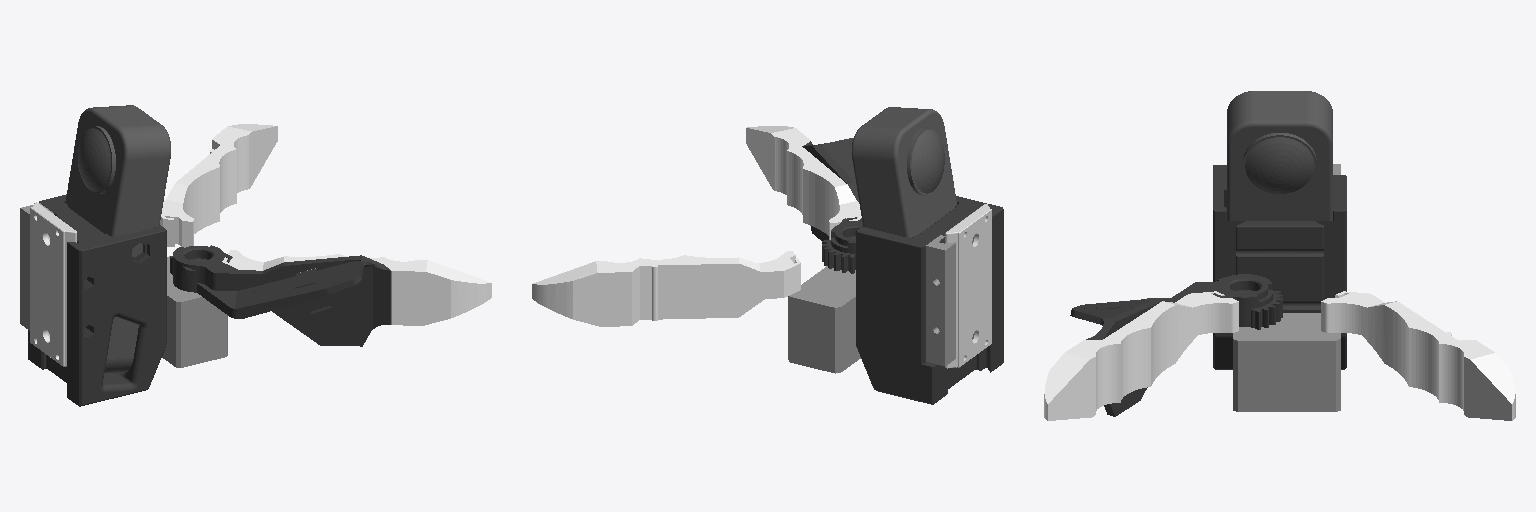
The robot description file, URDF, robot "ChopstickSA":
<?xml version="1.0" ?>
<!-- Generated using onshape-to-robot -->
<!-- Onshape https://cad.onshape.com/documents/eecabbca2b473235ed55f5da/w/12b51beda5c251ebfa3a2944/e/4531c8ca57061f6ee81836c2 -->
<robot name="ChopstickSA">
  <!-- Link insta360x5_frame__b3fbf05df103a92770cc2e34ad0d092e -->
  <link name="insta360x5_frame__b3fbf05df103a92770cc2e34ad0d092e">
    <inertial>
      <origin xyz="0.038123 0.000461464 -0.00183218" rpy="0 0 0"/>
      <mass value="0.4938"/>
      <inertia ixx="0.000627488" ixy="-5.24983e-06" ixz="8.82031e-05" iyy="0.000786642" iyz="8.44981e-06" izz="0.00038305"/>
    </inertial>
    <!-- Part servo__gripper -->
    <visual>
      <origin xyz="0.0673301 0.015 -0.0106871" rpy="0 -0 0"/>
      <geometry>
        <mesh filename="package://assets/servo__gripper.stl"/>
      </geometry>
      <material name="servo__gripper_material">
        <color rgba="0.647059 0.647059 0.647059 1"/>
      </material>
    </visual>
    <collision>
      <origin xyz="0.0673301 0.015 -0.0106871" rpy="0 -0 0"/>
      <geometry>
        <mesh filename="package://assets/servo__gripper.stl"/>
      </geometry>
    </collision>
    <!-- Part chopstickbase_sa__b3fbf05df103a92770cc2e34ad0d092e -->
    <visual>
      <origin xyz="-0 0 0" rpy="-0 -0 -0"/>
      <geometry>
        <mesh filename="package://assets/chopstickbase_sa__b3fbf05df103a92770cc2e34ad0d092e.stl"/>
      </geometry>
      <material name="chopstickbase_sa__b3fbf05df103a92770cc2e34ad0d092e_material">
        <color rgba="0.301961 0.301961 0.301961 1"/>
      </material>
    </visual>
    <collision>
      <origin xyz="-0 0 0" rpy="-0 -0 -0"/>
      <geometry>
        <mesh filename="package://assets/chopstickbase_sa__b3fbf05df103a92770cc2e34ad0d092e.stl"/>
      </geometry>
    </collision>
    <!-- Part insta360x5_frame__b3fbf05df103a92770cc2e34ad0d092e -->
    <visual>
      <origin xyz="-0 0 0" rpy="0 -0 0"/>
      <geometry>
        <mesh filename="package://assets/insta360x5_frame__b3fbf05df103a92770cc2e34ad0d092e.stl"/>
      </geometry>
      <material name="insta360x5_frame__b3fbf05df103a92770cc2e34ad0d092e_material">
        <color rgba="0.301961 0.301961 0.301961 1"/>
      </material>
    </visual>
    <collision>
      <origin xyz="-0 0 0" rpy="0 -0 0"/>
      <geometry>
        <mesh filename="package://assets/insta360x5_frame__b3fbf05df103a92770cc2e34ad0d092e.stl"/>
      </geometry>
    </collision>
    <!-- Part insta360_x5__47d4ae39761d23bd9bfcc1d54af43414 -->
    <visual>
      <origin xyz="-0 0 0" rpy="0 -0 0"/>
      <geometry>
        <mesh filename="package://assets/insta360_x5__47d4ae39761d23bd9bfcc1d54af43414.stl"/>
      </geometry>
      <material name="insta360_x5__47d4ae39761d23bd9bfcc1d54af43414_material">
        <color rgba="0.4 0.4 0.4 1"/>
      </material>
    </visual>
    <collision>
      <origin xyz="-0 0 0" rpy="0 -0 0"/>
      <geometry>
        <mesh filename="package://assets/insta360_x5__47d4ae39761d23bd9bfcc1d54af43414.stl"/>
      </geometry>
    </collision>
    <!-- Part plate___frankarobot -->
    <visual>
      <origin xyz="0 0 0" rpy="0 -0 0"/>
      <geometry>
        <mesh filename="package://assets/plate___frankarobot.stl"/>
      </geometry>
      <material name="plate___frankarobot_material">
        <color rgba="0.917647 0.917647 0.917647 1"/>
      </material>
    </visual>
    <collision>
      <origin xyz="0 0 0" rpy="0 -0 0"/>
      <geometry>
        <mesh filename="package://assets/plate___frankarobot.stl"/>
      </geometry>
    </collision>
    <!-- Part chopstickclip_sa__b3fbf05df103a92770cc2e34ad0d092e -->
    <visual>
      <origin xyz="-0 0 0" rpy="0 -0 0"/>
      <geometry>
        <mesh filename="package://assets/chopstickclip_sa__b3fbf05df103a92770cc2e34ad0d092e.stl"/>
      </geometry>
      <material name="chopstickclip_sa__b3fbf05df103a92770cc2e34ad0d092e_material">
        <color rgba="0.647059 0.647059 0.647059 1"/>
      </material>
    </visual>
    <collision>
      <origin xyz="-0 0 0" rpy="0 -0 0"/>
      <geometry>
        <mesh filename="package://assets/chopstickclip_sa__b3fbf05df103a92770cc2e34ad0d092e.stl"/>
      </geometry>
    </collision>
    <!-- Part insta360x5_clipb__47d4ae39761d23bd9bfcc1d54af43414 -->
    <visual>
      <origin xyz="-0 0 0" rpy="0 -0 0"/>
      <geometry>
        <mesh filename="package://assets/insta360x5_clipb__47d4ae39761d23bd9bfcc1d54af43414.stl"/>
      </geometry>
      <material name="insta360x5_clipb__47d4ae39761d23bd9bfcc1d54af43414_material">
        <color rgba="0.647059 0.647059 0.647059 1"/>
      </material>
    </visual>
    <collision>
      <origin xyz="-0 0 0" rpy="0 -0 0"/>
      <geometry>
        <mesh filename="package://assets/insta360x5_clipb__47d4ae39761d23bd9bfcc1d54af43414.stl"/>
      </geometry>
    </collision>
  </link>
  <!-- Frame hand_tcp (dummy link + fixed joint) -->
  <link name="hand_tcp">
    <origin xyz="0 0 0" rpy="0 -0 0"/>
    <inertial>
      <origin xyz="0 0 0" rpy="0 0 0"/>
      <mass value="1e-9"/>
      <inertia ixx="0" ixy="0" ixz="0" iyy="0" iyz="0" izz="0"/>
    </inertial>
  </link>
  <joint name="hand_tcp_frame" type="fixed">
    <origin xyz="0.188 0 -0.003" rpy="1.5708 0 1.5708"/>
    <parent link="insta360x5_frame__b3fbf05df103a92770cc2e34ad0d092e"/>
    <child link="hand_tcp"/>
    <axis xyz="0 0 0"/>
  </joint>
  <!-- Frame gripper_origin (dummy link + fixed joint) -->
  <link name="gripper_origin">
    <origin xyz="0 0 0" rpy="0 -0 0"/>
    <inertial>
      <origin xyz="0 0 0" rpy="0 0 0"/>
      <mass value="1e-9"/>
      <inertia ixx="0" ixy="0" ixz="0" iyy="0" iyz="0" izz="0"/>
    </inertial>
  </link>
  <joint name="gripper_origin_frame" type="fixed">
    <origin xyz="-0 0 0" rpy="1.5708 -0 1.5708"/>
    <parent link="insta360x5_frame__b3fbf05df103a92770cc2e34ad0d092e"/>
    <child link="gripper_origin"/>
    <axis xyz="0 0 0"/>
  </joint>
  <!-- Frame franka_flange (dummy link + fixed joint) -->
  <link name="franka_flange">
    <origin xyz="0 0 0" rpy="0 -0 0"/>
    <inertial>
      <origin xyz="0 0 0" rpy="0 0 0"/>
      <mass value="1e-9"/>
      <inertia ixx="0" ixy="0" ixz="0" iyy="0" iyz="0" izz="0"/>
    </inertial>
  </link>
  <joint name="franka_flange_frame" type="fixed">
    <origin xyz="-0.006 0 0" rpy="1.5708 -0 1.5708"/>
    <parent link="insta360x5_frame__b3fbf05df103a92770cc2e34ad0d092e"/>
    <child link="franka_flange"/>
    <axis xyz="0 0 0"/>
  </joint>
  <!-- Link left_finger_sa_spur_gear_24_teeth_1___b3fbf05df103a92770cc2e34ad0d092e -->
  <link name="left_finger_sa_spur_gear_24_teeth_1___b3fbf05df103a92770cc2e34ad0d092e">
    <inertial>
      <origin xyz="0.0326969 0.0396815 -0.00170186" rpy="0 0 0"/>
      <mass value="0.0382"/>
      <inertia ixx="2.53269e-05" ixy="-2.28111e-05" ixz="6.65498e-07" iyy="3.34819e-05" iyz="-8.2629e-08" izz="5.37917e-05"/>
    </inertial>
    <!-- Part left_finger_sa_spur_gear_24_teeth_1___b3fbf05df103a92770cc2e34ad0d092e -->
    <visual>
      <origin xyz="-0.0673301 -0.015 0.00118708" rpy="0 -0 -0"/>
      <geometry>
        <mesh filename="package://assets/left_finger_sa_spur_gear_24_teeth_1___b3fbf05df103a92770cc2e34ad0d092e.stl"/>
      </geometry>
      <material name="left_finger_sa_spur_gear_24_teeth_1___b3fbf05df103a92770cc2e34ad0d092e_material">
        <color rgba="0.301961 0.301961 0.301961 1"/>
      </material>
    </visual>
    <collision>
      <origin xyz="-0.0673301 -0.015 0.00118708" rpy="0 -0 -0"/>
      <geometry>
        <mesh filename="package://assets/left_finger_sa_spur_gear_24_teeth_1___b3fbf05df103a92770cc2e34ad0d092e.stl"/>
      </geometry>
    </collision>
    <!-- Part chopstick___tpu_left_finger -->
    <visual>
      <origin xyz="-0.0105268 -0.0127182 0.0110083" rpy="0 -0 -1.80292"/>
      <geometry>
        <mesh filename="package://assets/chopstick___tpu_left_finger.stl"/>
      </geometry>
      <material name="chopstick___tpu_left_finger_material">
        <color rgba="1 1 1 1"/>
      </material>
    </visual>
    <collision>
      <origin xyz="-0.0105268 -0.0127182 0.0110083" rpy="0 -0 -1.80292"/>
      <geometry>
        <mesh filename="package://assets/chopstick___tpu_left_finger.stl"/>
      </geometry>
    </collision>
  </link>
  <!-- Joint from insta360x5_frame__b3fbf05df103a92770cc2e34ad0d092e to left_finger_sa_spur_gear_24_teeth_1___b3fbf05df103a92770cc2e34ad0d092e -->
  <joint name="rev_left" type="revolute">
    <origin xyz="0.0673301 0.015 -0.00118708" rpy="-0 -0 -0"/>
    <parent link="insta360x5_frame__b3fbf05df103a92770cc2e34ad0d092e"/>
    <child link="left_finger_sa_spur_gear_24_teeth_1___b3fbf05df103a92770cc2e34ad0d092e"/>
    <axis xyz="0 0 1"/>
    <limit effort="10" velocity="10" lower="-0.872665" upper="0"/>
  </joint>
  <!-- Link right_finger_dc_sa_spur_gear_24_teeth_1 -->
  <link name="right_finger_dc_sa_spur_gear_24_teeth_1">
    <inertial>
      <origin xyz="-0.0339267 0.0405443 -0.00155318" rpy="0 0 0"/>
      <mass value="0.0352"/>
      <inertia ixx="2.29997e-05" ixy="2.11161e-05" ixz="-8.56925e-07" iyy="3.13374e-05" iyz="2.3811e-07" izz="4.97245e-05"/>
    </inertial>
    <!-- Part chopstick___tpu_right_finger -->
    <visual>
      <origin xyz="0.0105268 -0.0127182 0.0110083" rpy="0 -0 1.80292"/>
      <geometry>
        <mesh filename="package://assets/chopstick___tpu_right_finger.stl"/>
      </geometry>
      <material name="chopstick___tpu_right_finger_material">
        <color rgba="1 1 1 1"/>
      </material>
    </visual>
    <collision>
      <origin xyz="0.0105268 -0.0127182 0.0110083" rpy="0 -0 1.80292"/>
      <geometry>
        <mesh filename="package://assets/chopstick___tpu_right_finger.stl"/>
      </geometry>
    </collision>
    <!-- Part right_finger_dc_sa_spur_gear_24_teeth_1 -->
    <visual>
      <origin xyz="0.019248 -0.015 0.0101963" rpy="-0 -0 1.5708"/>
      <geometry>
        <mesh filename="package://assets/right_finger_dc_sa_spur_gear_24_teeth_1.stl"/>
      </geometry>
      <material name="right_finger_dc_sa_spur_gear_24_teeth_1_material">
        <color rgba="0.301961 0.301961 0.301961 1"/>
      </material>
    </visual>
    <collision>
      <origin xyz="0.019248 -0.015 0.0101963" rpy="-0 -0 1.5708"/>
      <geometry>
        <mesh filename="package://assets/right_finger_dc_sa_spur_gear_24_teeth_1.stl"/>
      </geometry>
    </collision>
  </link>
  <!-- Joint from insta360x5_frame__b3fbf05df103a92770cc2e34ad0d092e to right_finger_dc_sa_spur_gear_24_teeth_1 -->
  <joint name="rev_right" type="revolute">
    <origin xyz="0.0673301 -0.015 -0.00118708" rpy="0 -0 3.14159"/>
    <parent link="insta360x5_frame__b3fbf05df103a92770cc2e34ad0d092e"/>
    <child link="right_finger_dc_sa_spur_gear_24_teeth_1"/>
    <axis xyz="0 0 1"/>
    <limit effort="10" velocity="10" lower="-0" upper="0.872665"/>
    <mimic joint="rev_left" multiplier="-1.0"/>
  </joint>
</robot>

--- Facts derived from the render (not from the file) ---
Views: 3 orthographic renders of the robot side by side, from view 1: azimuth 30°, elevation 25°; view 2: azimuth 150°, elevation 25°; view 3: azimuth 270°, elevation 25°.
Model ChopstickSA with 6 links and 5 joints (2 revolute, 3 fixed), rooted at insta360x5_frame__b3fbf05df103a92770cc2e34ad0d092e, posed all joints at 0.
Visible links, largest first — view 1: insta360x5_frame__b3fbf05df103a92770cc2e34ad0d092e, right_finger_dc_sa_spur_gear_24_teeth_1, left_finger_sa_spur_gear_24_teeth_1___b3fbf05df103a92770cc2e34ad; view 2: insta360x5_frame__b3fbf05df103a92770cc2e34ad0d092e, left_finger_sa_spur_gear_24_teeth_1___b3fbf05df103a92770cc2e34ad, right_finger_dc_sa_spur_gear_24_teeth_1; view 3: insta360x5_frame__b3fbf05df103a92770cc2e34ad0d092e, right_finger_dc_sa_spur_gear_24_teeth_1, left_finger_sa_spur_gear_24_teeth_1___b3fbf05df103a92770cc2e34ad.
Link boxes in pixels (box(x1,y1,x2,y2)): insta360x5_frame__b3fbf05df103a92770cc2e34ad0d092e: box(20, 105, 227, 406); right_finger_dc_sa_spur_gear_24_teeth_1: box(170, 245, 491, 346); left_finger_sa_spur_gear_24_teeth_1___b3fbf05df103a92770cc2e34ad: box(160, 124, 277, 247); insta360x5_frame__b3fbf05df103a92770cc2e34ad0d092e: box(788, 107, 1003, 404); left_finger_sa_spur_gear_24_teeth_1___b3fbf05df103a92770cc2e34ad: box(532, 251, 800, 326); right_finger_dc_sa_spur_gear_24_teeth_1: box(746, 126, 862, 273); insta360x5_frame__b3fbf05df103a92770cc2e34ad0d092e: box(1213, 91, 1346, 411); right_finger_dc_sa_spur_gear_24_teeth_1: box(1044, 274, 1282, 420); left_finger_sa_spur_gear_24_teeth_1___b3fbf05df103a92770cc2e34ad: box(1321, 291, 1515, 420).
Size in the robot's own frame: 0.1824 by 0.203 by 0.1302 metres.
8 mesh visuals loaded from 11 distinct referenced files (8 binary STL); not drawn: 3 (reference not matched to a file when rendering).
